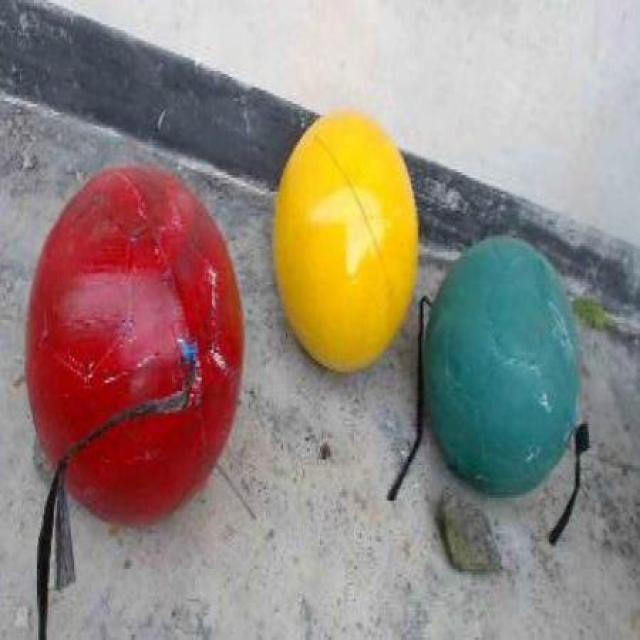buoy: (21, 164, 244, 530), (422, 233, 581, 495), (272, 108, 418, 368)
